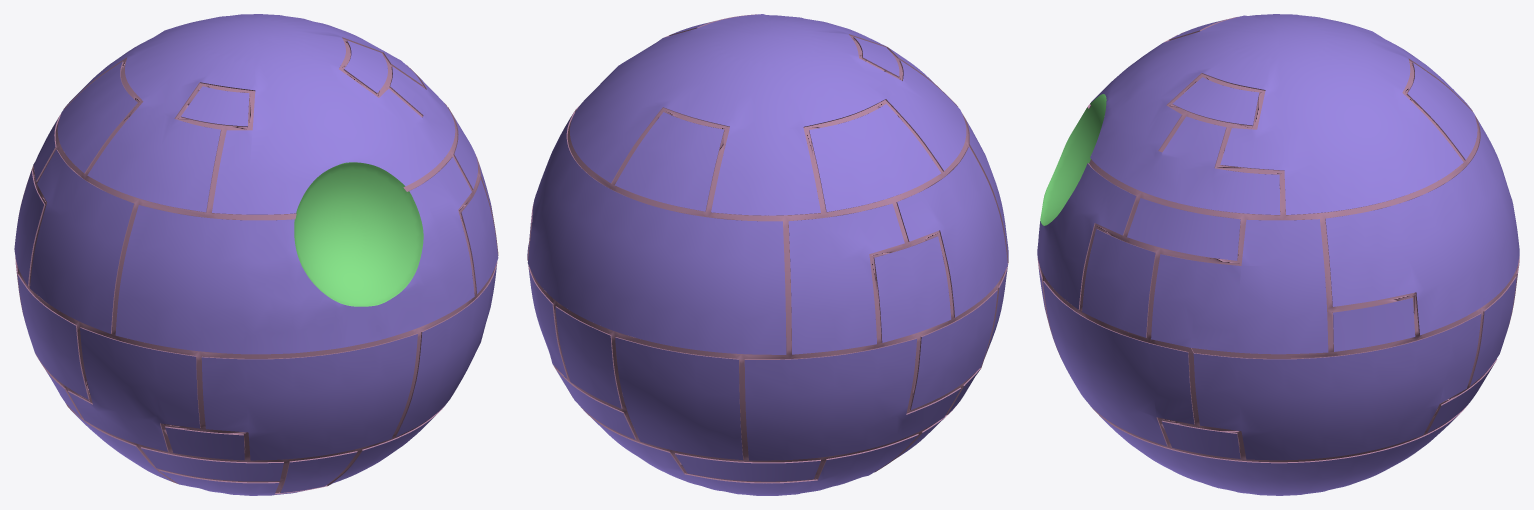
The model's file is DoomStar.fbx.
The picture shows the model from 3 angles, left to right: view 1: azimuth 30°, elevation 25°; view 2: azimuth 150°, elevation 25°; view 3: azimuth 270°, elevation 25°; orthographic projection.
Parts seen in each view (by area): view 1: DoomStar; view 2: DoomStar; view 3: DoomStar.
Part boxes in pixels (box(x1,y1,x2,y2)): DoomStar: box(14, 14, 498, 495); DoomStar: box(527, 14, 1008, 495); DoomStar: box(1037, 14, 1519, 495).
Size of the model in its own units: 19856 by 19969 by 19876.
